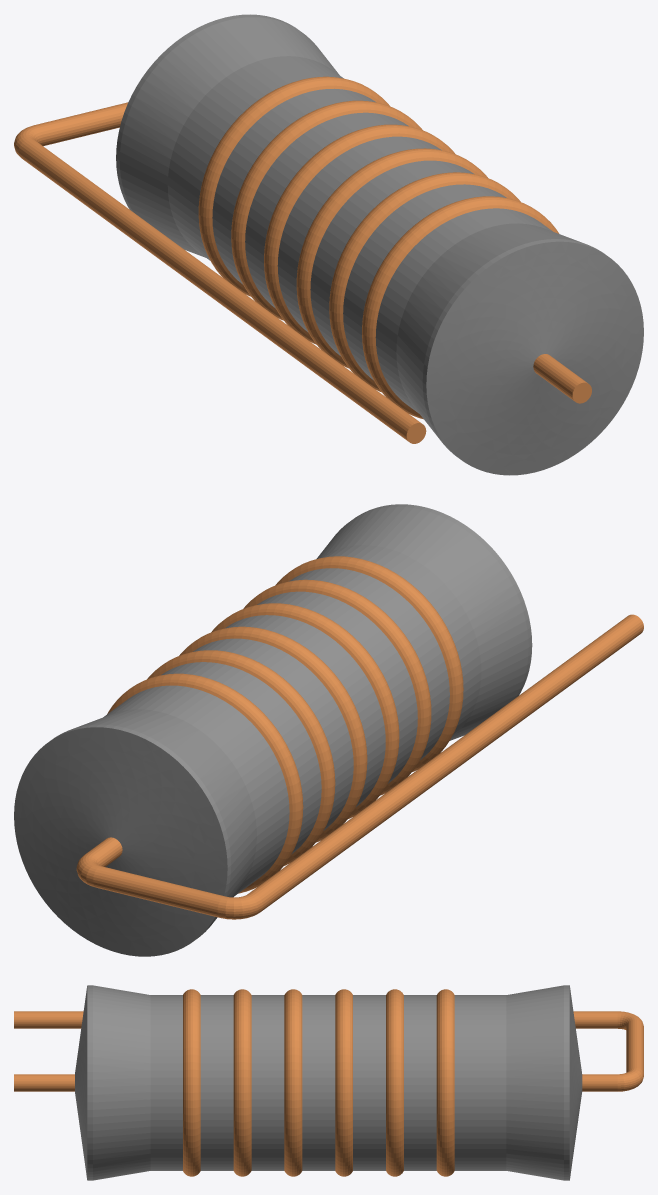
The model's file is L_Axial_L26.0mm_D10.0mm_P7.62mm_Vertical_Fastron_77A.glb.
The picture shows the model from 3 angles, top to bottom: view 1: azimuth 30°, elevation 25°; view 2: azimuth 150°, elevation 25°; view 3: azimuth 270°, elevation 25°; orthographic projection. The views are drawn at different scales.
Parts seen in each view (by area): view 1: Shape_IndexedFaceSet.002, Shape_IndexedFaceSet.018, Shape_IndexedFaceSet.025, Shape_IndexedFaceSet.017, Shape_IndexedFaceSet.004, Shape_IndexedFaceSet.005, Shape_IndexedFaceSet.009, Shape_IndexedFaceSet.007, Shape_IndexedFaceSet.015, Shape_IndexedFaceSet.011, Shape_IndexedFaceSet.013, Shape_IndexedFaceSet.006 (+9 smaller); view 2: Shape_IndexedFaceSet.020, Shape_IndexedFaceSet.004, Shape_IndexedFaceSet.025, Shape_IndexedFaceSet.017, Shape_IndexedFaceSet.018, Shape_IndexedFaceSet.009, Shape_IndexedFaceSet.013, Shape_IndexedFaceSet.007, Shape_IndexedFaceSet.011, Shape_IndexedFaceSet.015, Shape_IndexedFaceSet.005, Shape_IndexedFaceSet.016 (+9 smaller); view 3: Shape_IndexedFaceSet.004, Shape_IndexedFaceSet.018, Shape_IndexedFaceSet.017, Shape_IndexedFaceSet.007, Shape_IndexedFaceSet.009, Shape_IndexedFaceSet.011, Shape_IndexedFaceSet.005, Shape_IndexedFaceSet.013, Shape_IndexedFaceSet.015, Shape_IndexedFaceSet.008, Shape_IndexedFaceSet.010, Shape_IndexedFaceSet.016 (+12 smaller).
Part boxes in pixels (x1,y1,x2,y2): Shape_IndexedFaceSet.002: (426,241,643,475); Shape_IndexedFaceSet.018: (119,17,339,257); Shape_IndexedFaceSet.025: (18,139,421,441); Shape_IndexedFaceSet.017: (167,56,343,260); Shape_IndexedFaceSet.004: (396,223,581,440); Shape_IndexedFaceSet.005: (375,208,552,413); Shape_IndexedFaceSet.009: (310,160,474,355); Shape_IndexedFaceSet.007: (343,184,506,380); Shape_IndexedFaceSet.015: (212,88,375,284); Shape_IndexedFaceSet.011: (277,136,441,331); Shape_IndexedFaceSet.013: (245,112,408,308); Shape_IndexedFaceSet.006: (362,196,559,419); Shape_IndexedFaceSet.020: (14,727,227,956); Shape_IndexedFaceSet.004: (316,507,528,740); Shape_IndexedFaceSet.025: (248,614,643,911); Shape_IndexedFaceSet.017: (103,685,289,896); Shape_IndexedFaceSet.018: (73,709,256,920); Shape_IndexedFaceSet.009: (257,591,417,783); Shape_IndexedFaceSet.013: (193,638,353,830); Shape_IndexedFaceSet.007: (289,568,449,759); Shape_IndexedFaceSet.011: (225,615,385,806); Shape_IndexedFaceSet.015: (161,662,321,854); Shape_IndexedFaceSet.005: (321,545,481,736); Shape_IndexedFaceSet.016: (107,673,303,893); Shape_IndexedFaceSet.004: (93,985,150,1180); Shape_IndexedFaceSet.018: (506,985,563,1180); Shape_IndexedFaceSet.017: (454,995,506,1170); Shape_IndexedFaceSet.007: (200,995,233,1170); Shape_IndexedFaceSet.009: (251,995,284,1170); Shape_IndexedFaceSet.011: (302,995,335,1170); Shape_IndexedFaceSet.005: (150,995,182,1170); Shape_IndexedFaceSet.013: (353,995,385,1170); Shape_IndexedFaceSet.015: (404,995,436,1170); Shape_IndexedFaceSet.008: (233,989,251,1176); Shape_IndexedFaceSet.010: (284,989,302,1176); Shape_IndexedFaceSet.016: (436,989,454,1176).
Size of the model in its own units: 5.14 by 3.94 by 12.7.
